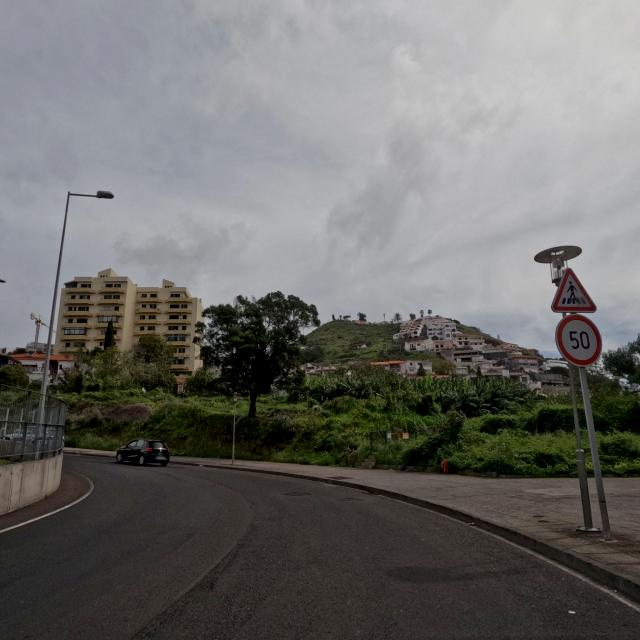car: (116, 438, 170, 466)
